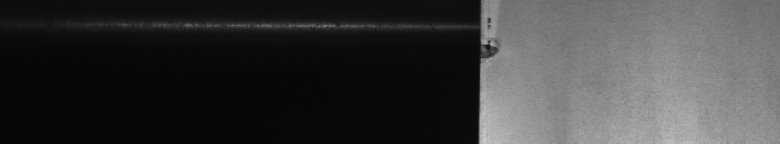hb: (492, 28, 504, 64)
